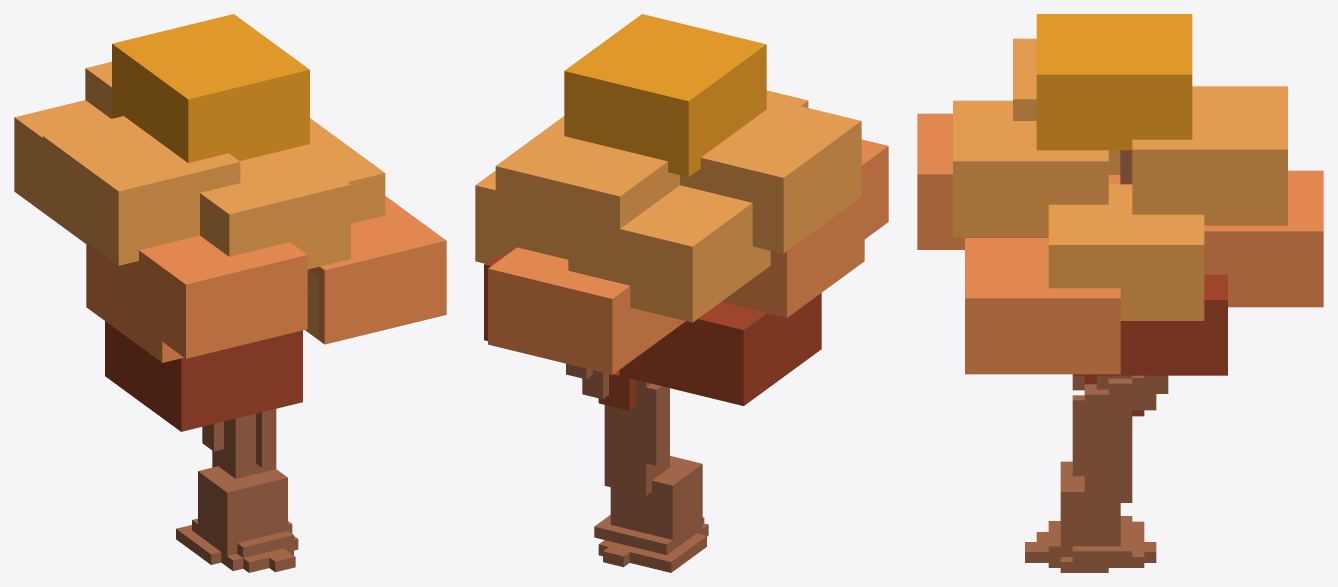
File: tree_var_1.glb
The picture shows the model from 3 angles, left to right: view 1: azimuth 30°, elevation 25°; view 2: azimuth 150°, elevation 25°; view 3: azimuth 270°, elevation 25°; orthographic projection. The views are drawn at different scales.
Parts seen in each view (by area): view 1: Untitled; view 2: Untitled; view 3: Untitled.
Part boxes in pixels (bbox=[...]): Untitled: bbox=[14, 14, 446, 572]; Untitled: bbox=[475, 14, 888, 572]; Untitled: bbox=[917, 14, 1323, 572].
Size of the model in its own units: 3 by 4.6 by 3.4.
1 material, 1 textured.
